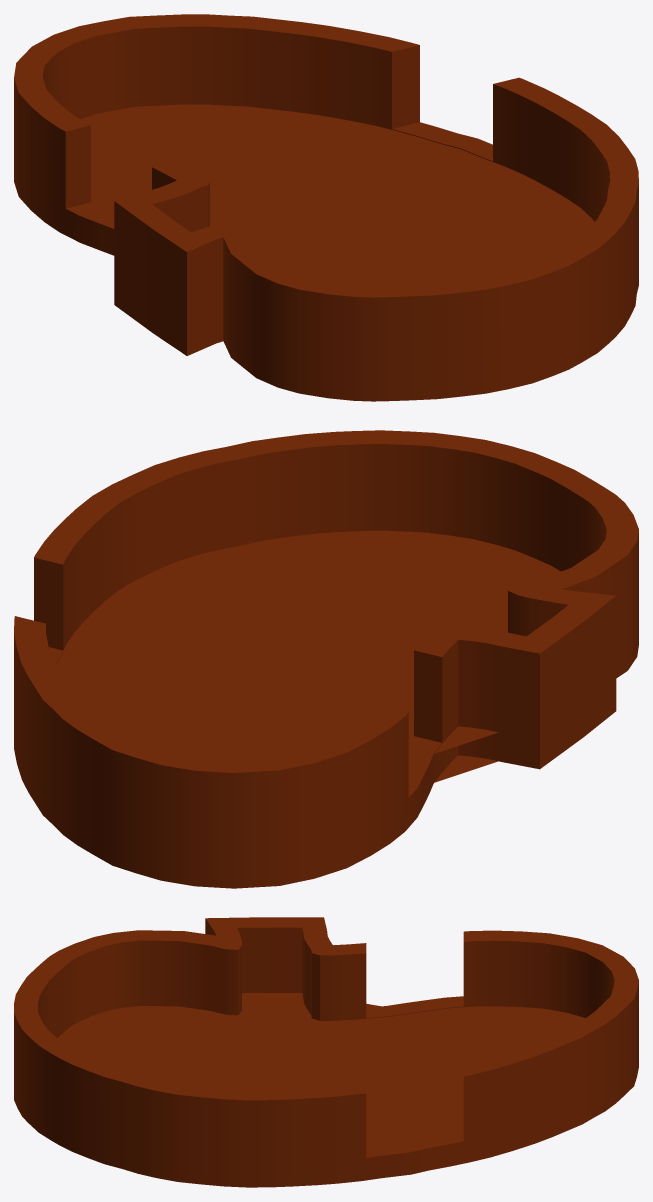
Rendered from Organ_Kidney_Right_Rectangular_Cuts.fbx.
3 views of the same model, one above another, from view 1: azimuth 30°, elevation 25°; view 2: azimuth 150°, elevation 25°; view 3: azimuth 270°, elevation 25° (orthographic). The views are drawn at different scales.
Parts seen in each view (by area): view 1: _12_04_Extruded_Color_Kidney_No_Cuts:polySurface4; view 2: _12_04_Extruded_Color_Kidney_No_Cuts:polySurface4; view 3: _12_04_Extruded_Color_Kidney_No_Cuts:polySurface4.
Part boxes in pixels (x1,y1,x2,y2): _12_04_Extruded_Color_Kidney_No_Cuts:polySurface4: (14,14,638,401); _12_04_Extruded_Color_Kidney_No_Cuts:polySurface4: (14,430,638,888); _12_04_Extruded_Color_Kidney_No_Cuts:polySurface4: (14,917,638,1187).
Size of the model in its own units: 3.92 by 0.8709 by 5.66.
